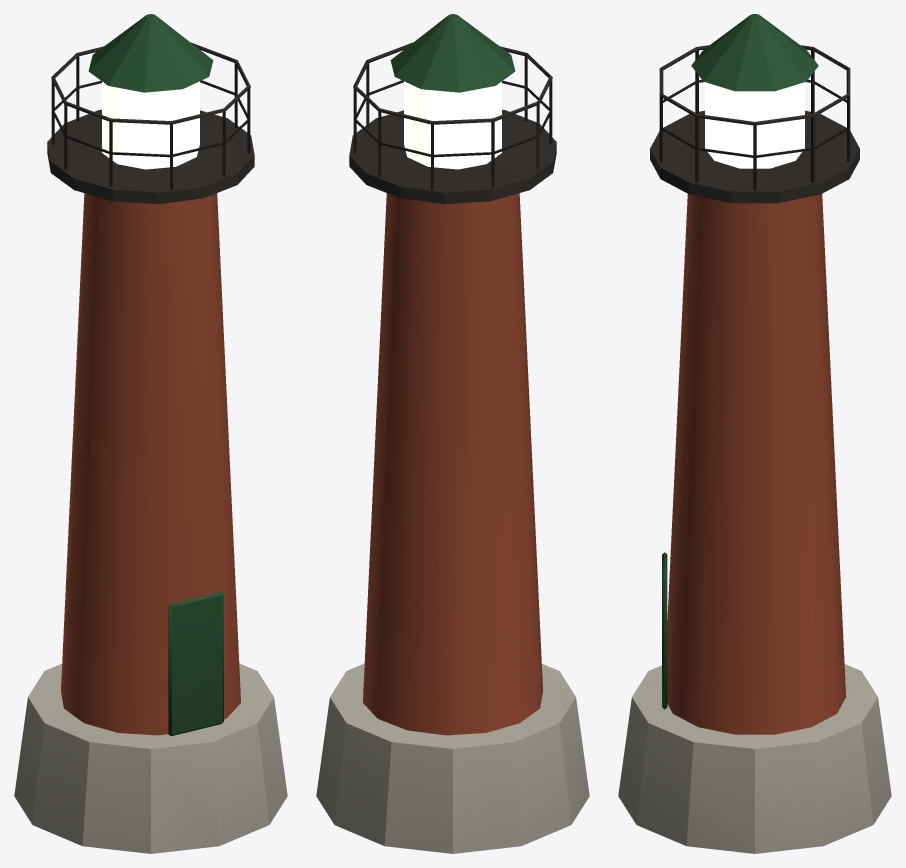
Rendered from harbour_light.glb.
3 views of the same model, side by side, from view 1: azimuth 30°, elevation 25°; view 2: azimuth 150°, elevation 25°; view 3: azimuth 270°, elevation 25° (orthographic).
Parts seen in each view (by area): view 1: harbour_light_mesh; view 2: harbour_light_mesh; view 3: harbour_light_mesh.
Boxes of the visible parts, x1,y1,x2,y2 form: harbour_light_mesh: (14,14,287,853); harbour_light_mesh: (316,14,589,853); harbour_light_mesh: (618,14,891,853).
Bounding box in the file's own units: 3 × 9.44 × 3.
